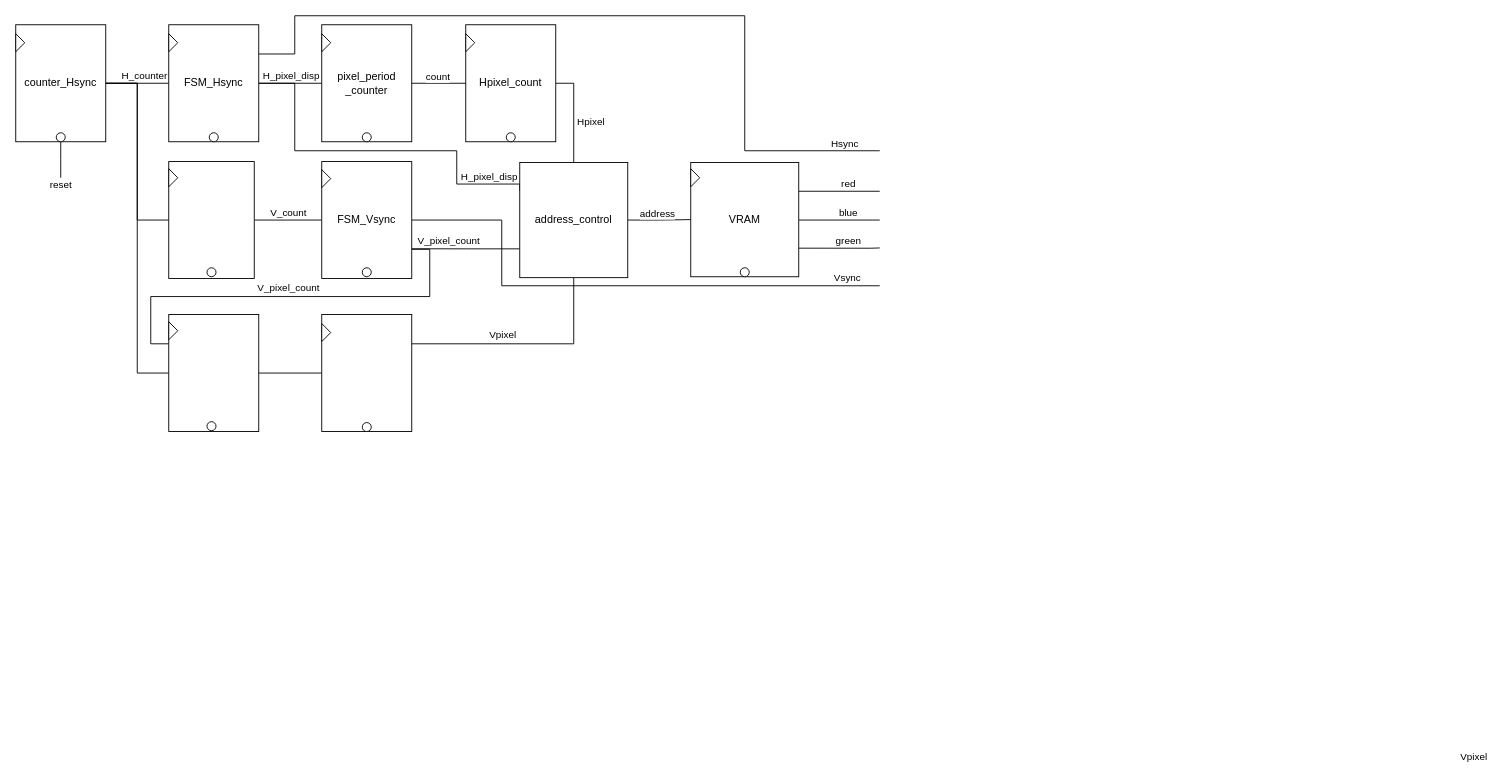
Image size: 1502x778. Some labels were removed from this diagram. Here are the shapes that lost their labels. From the top down, the box of each, then its label:
(168, 161, 254, 279): counter_Vsync
(168, 314, 259, 432): line_period _counter
(321, 314, 412, 432): Vpixel_count
